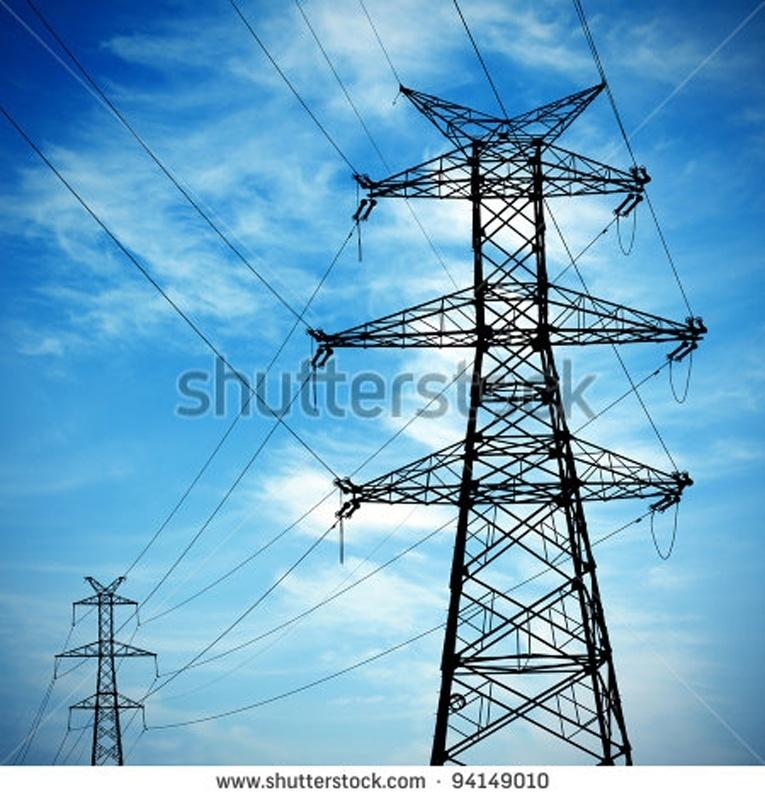power_tower: (325, 62, 697, 764), (56, 565, 157, 767)
